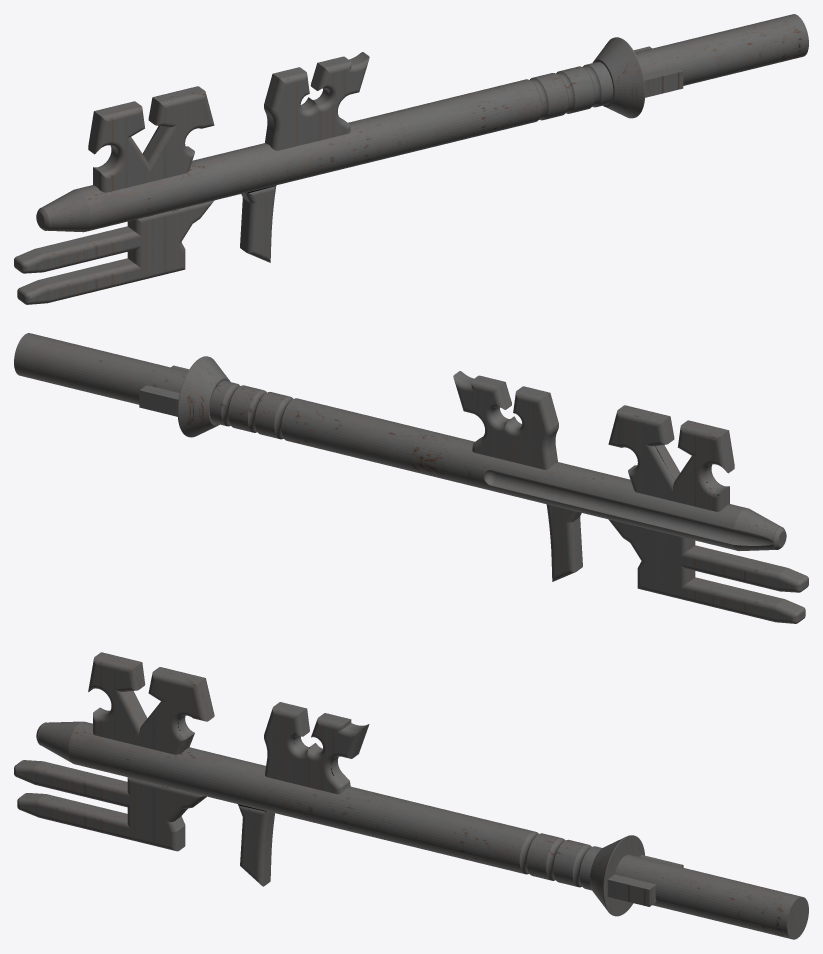
Rendered from SK_Key_Baked.fbx.
3 renders of one model, top to bottom at view 1: azimuth 30°, elevation 25°; view 2: azimuth 150°, elevation 25°; view 3: azimuth 330°, elevation 25°, orthographic.
Visible parts, largest first — view 1: Key SA; view 2: Key SA; view 3: Key SA.
Boxes of the visible parts, x1,y1,x2,y2 form: Key SA: [14, 14, 808, 304]; Key SA: [14, 333, 808, 623]; Key SA: [14, 652, 808, 939].
Size of the model in its own units: 11785 by 2715 by 1084.
